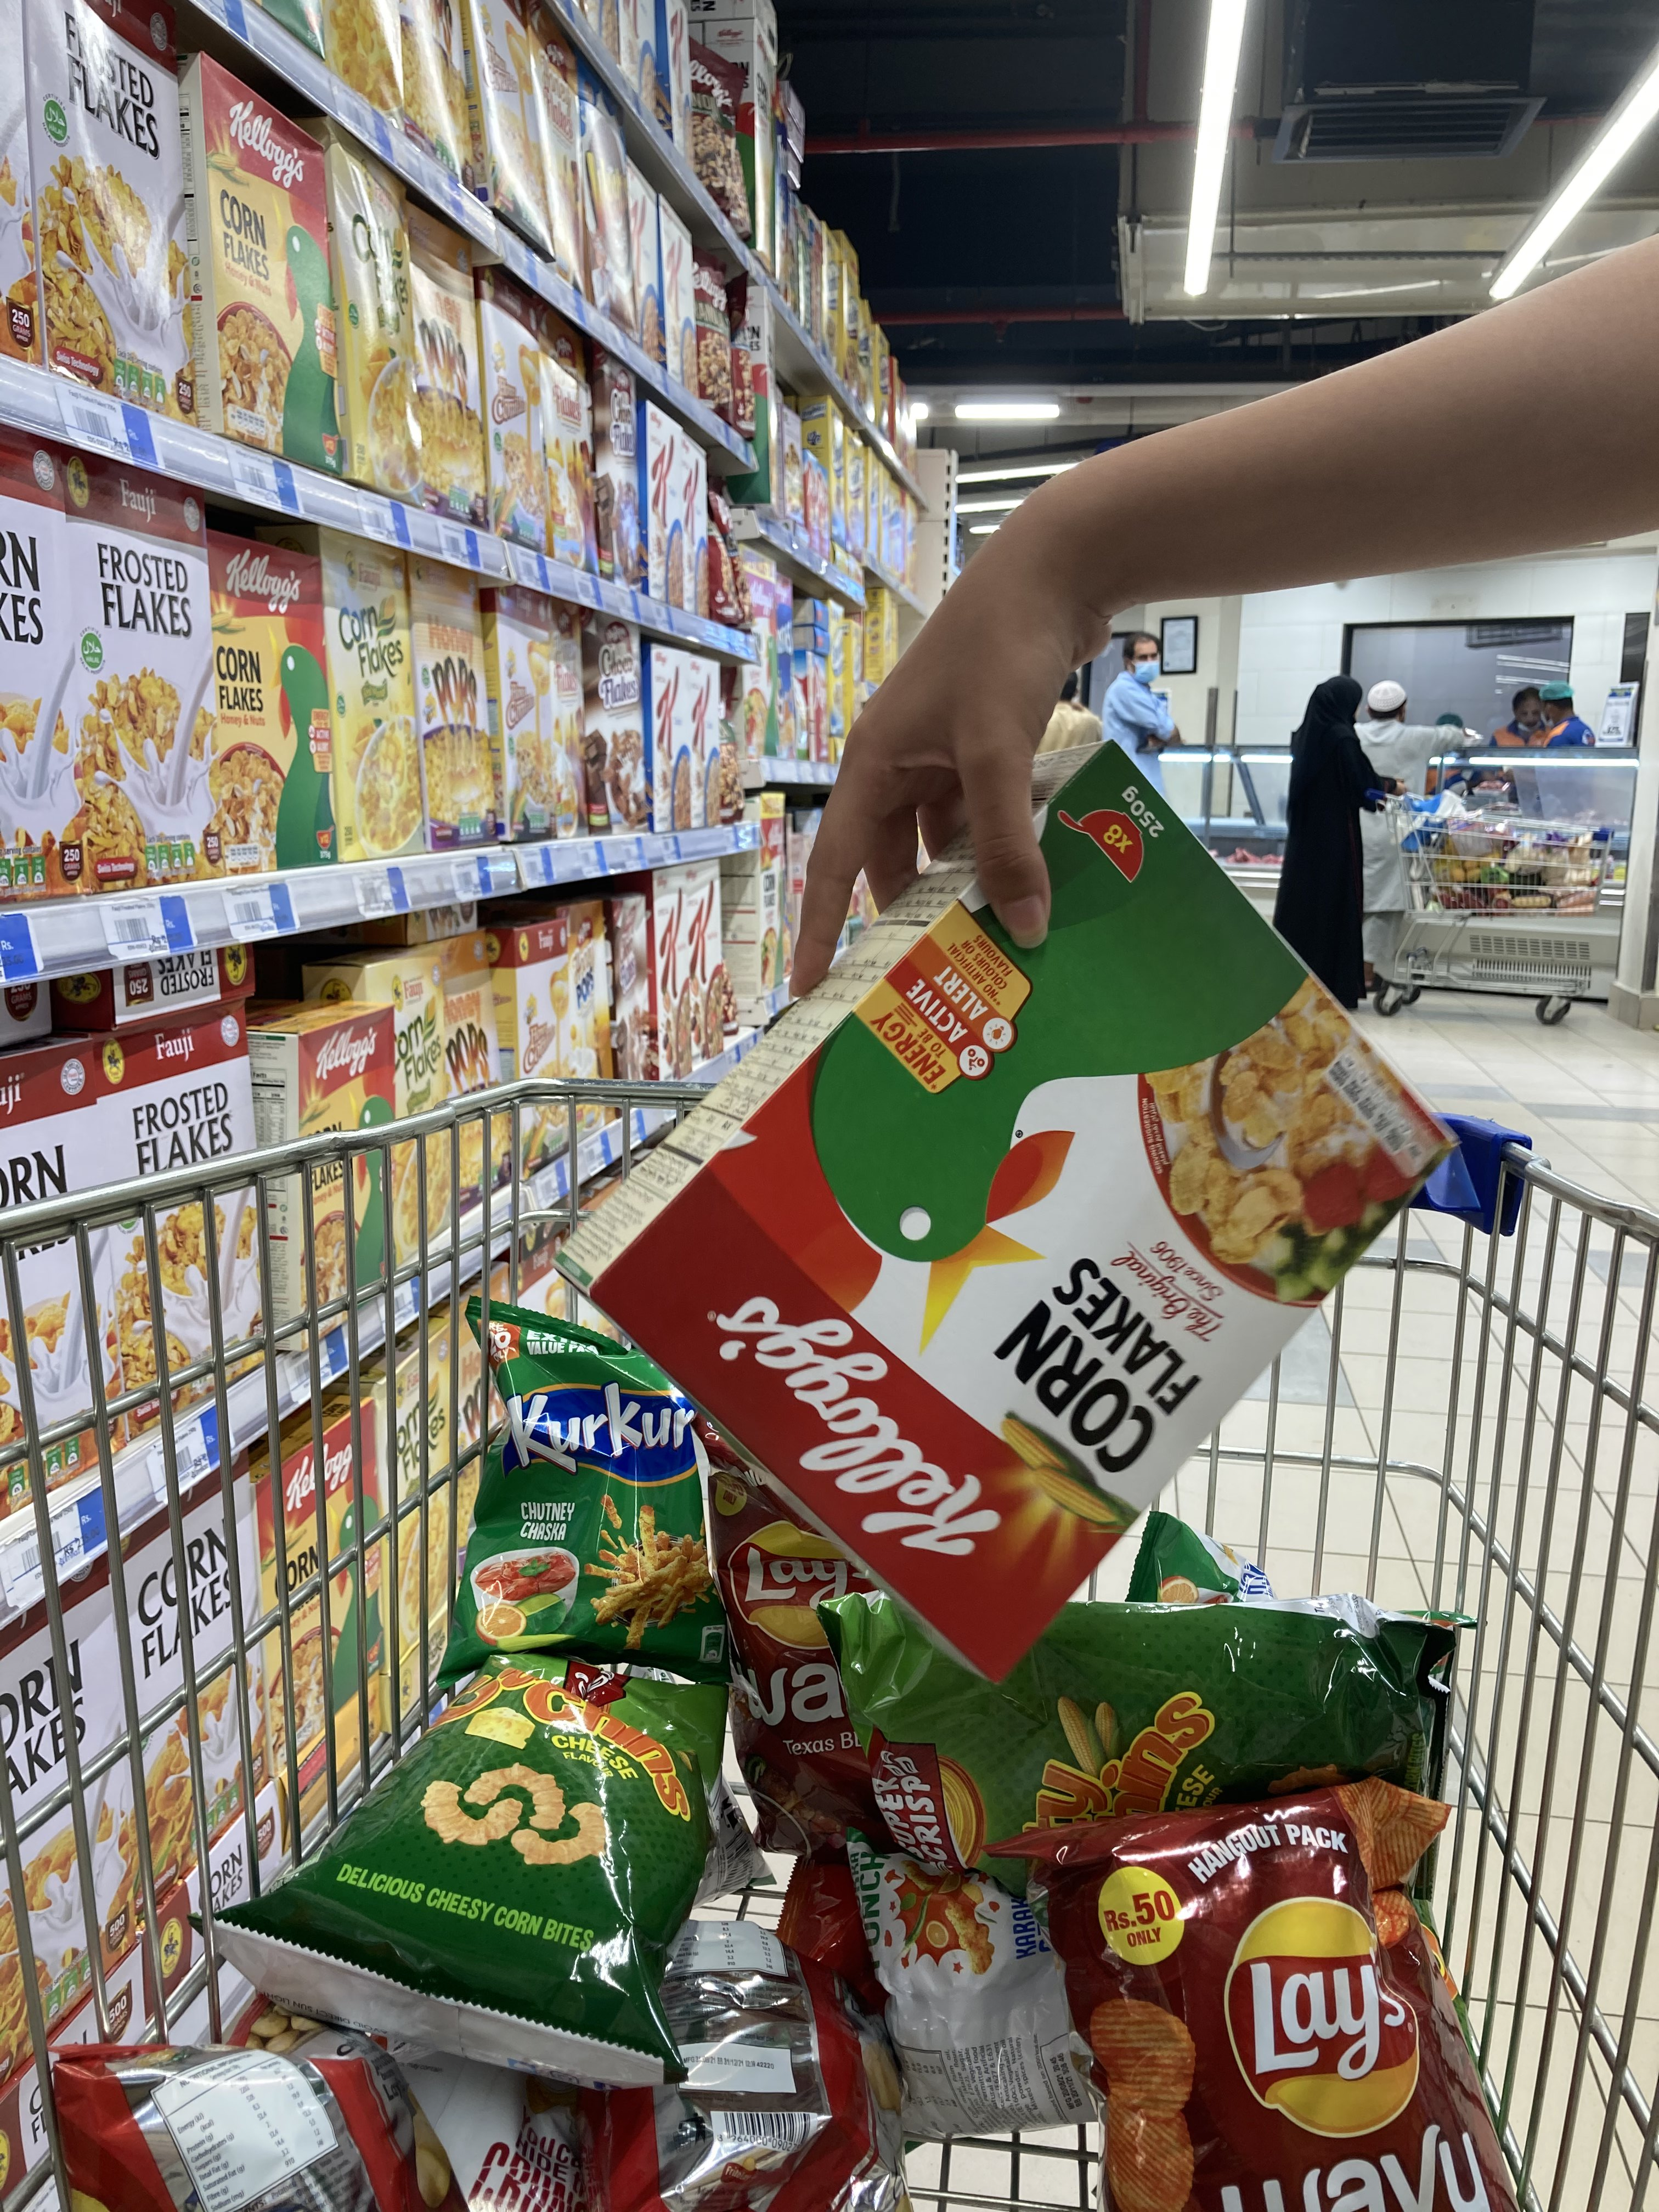Kellogg's Corn Flakes: (544, 732, 1462, 1679)
